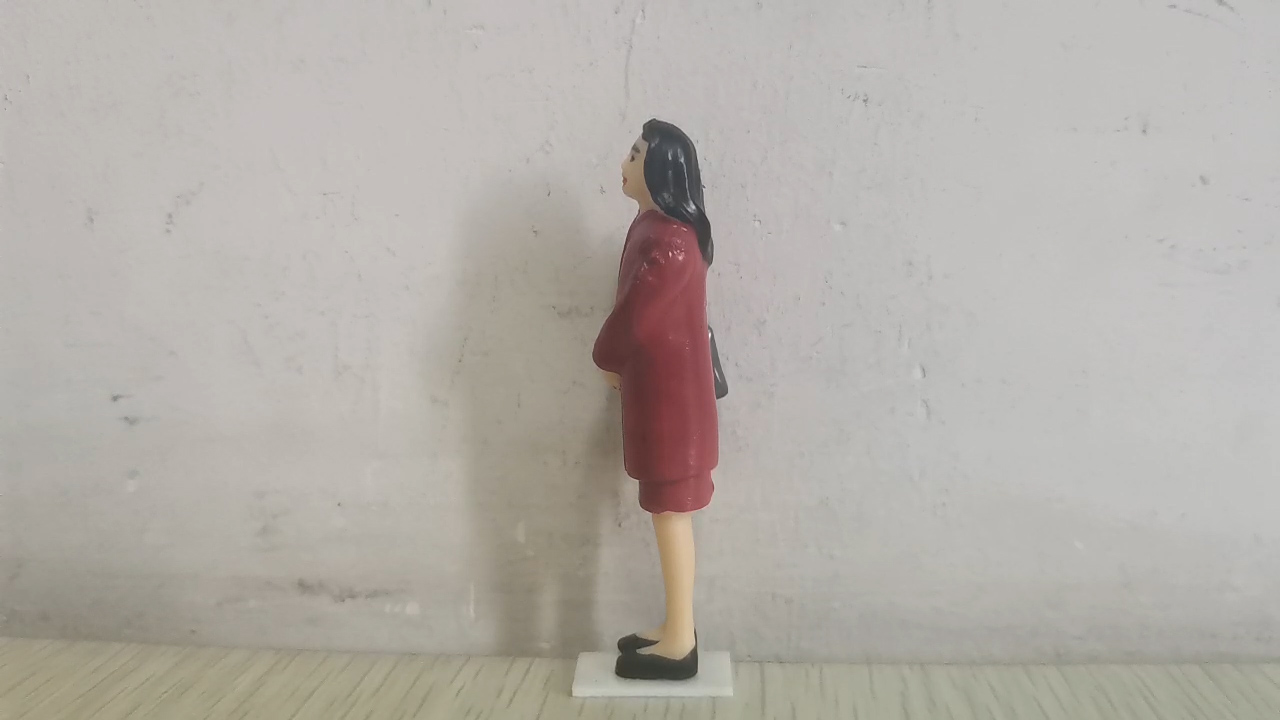person: (589, 116, 731, 684)
